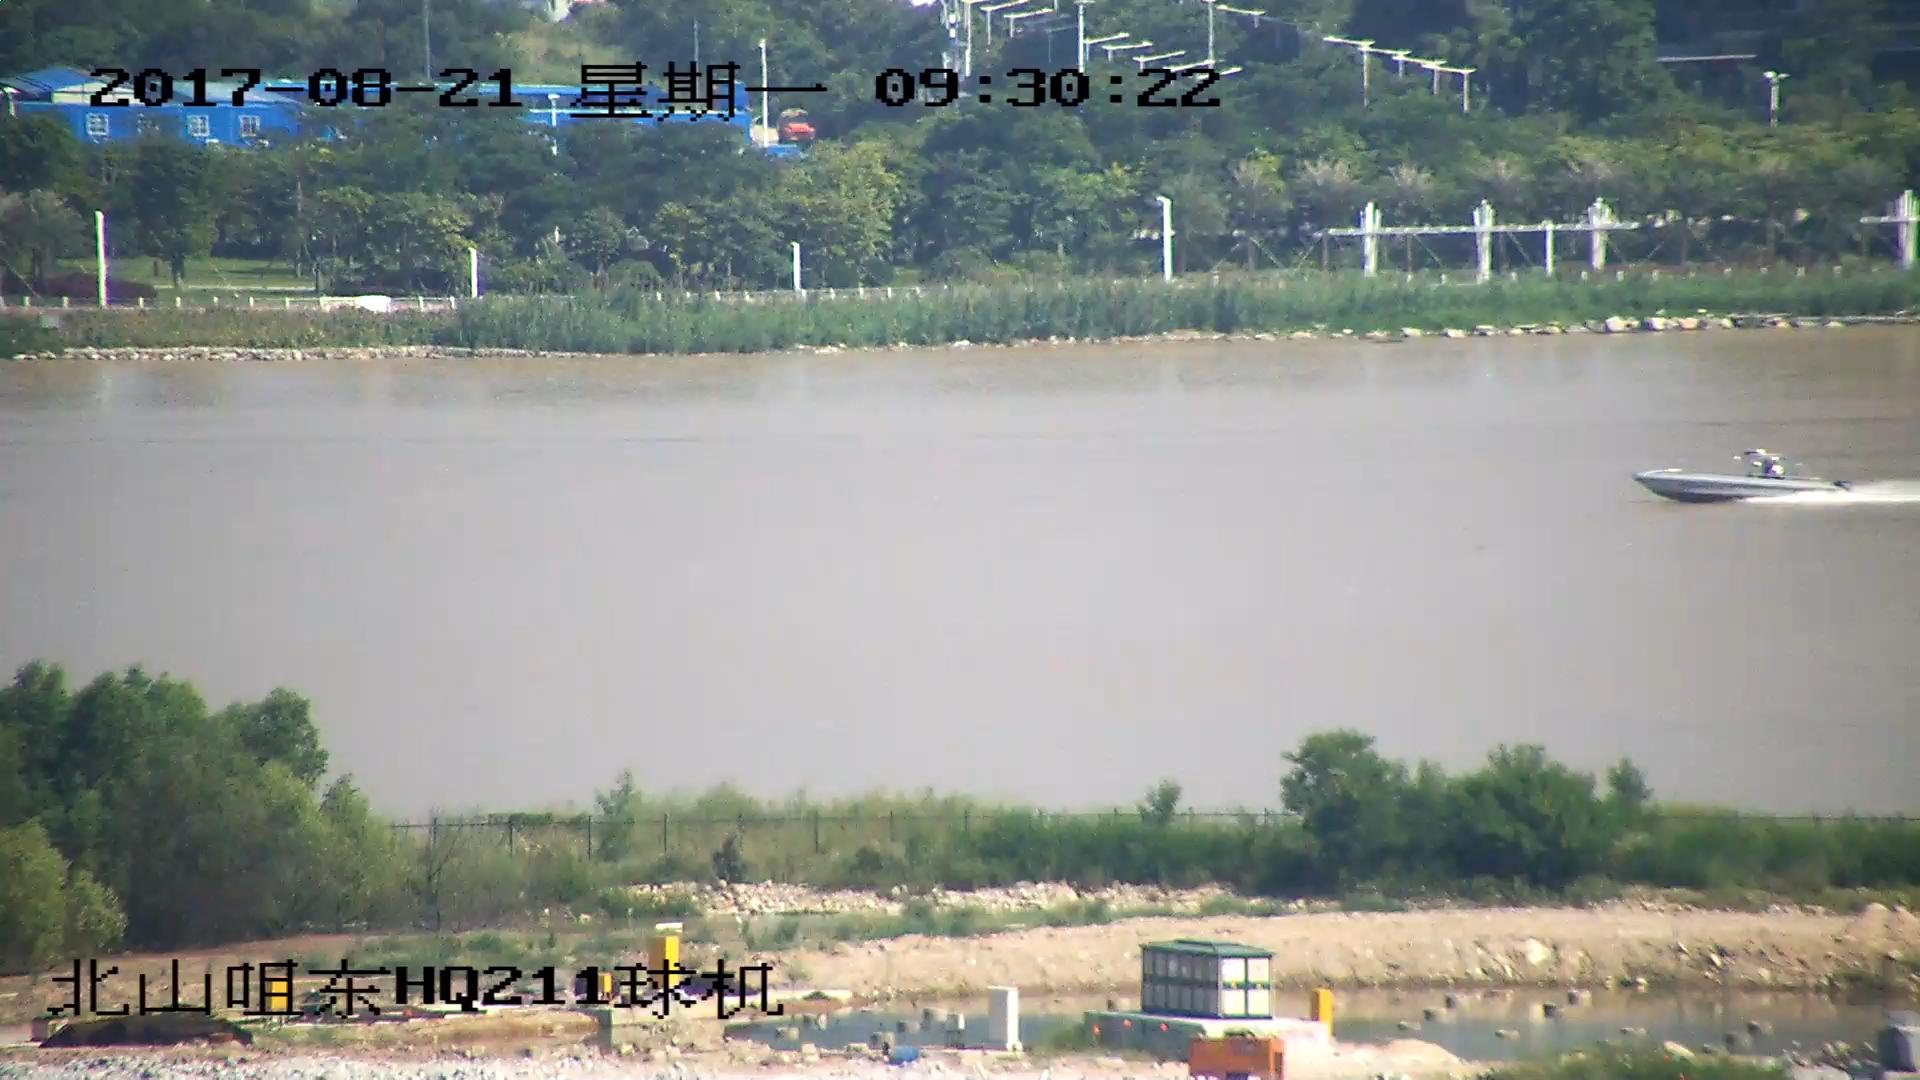passenger ship: (1636, 447, 1846, 507)
